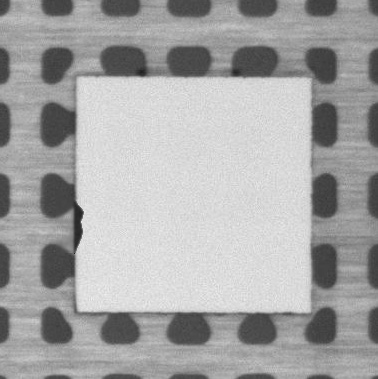DIE_BROKEN: (71, 201, 86, 255)
